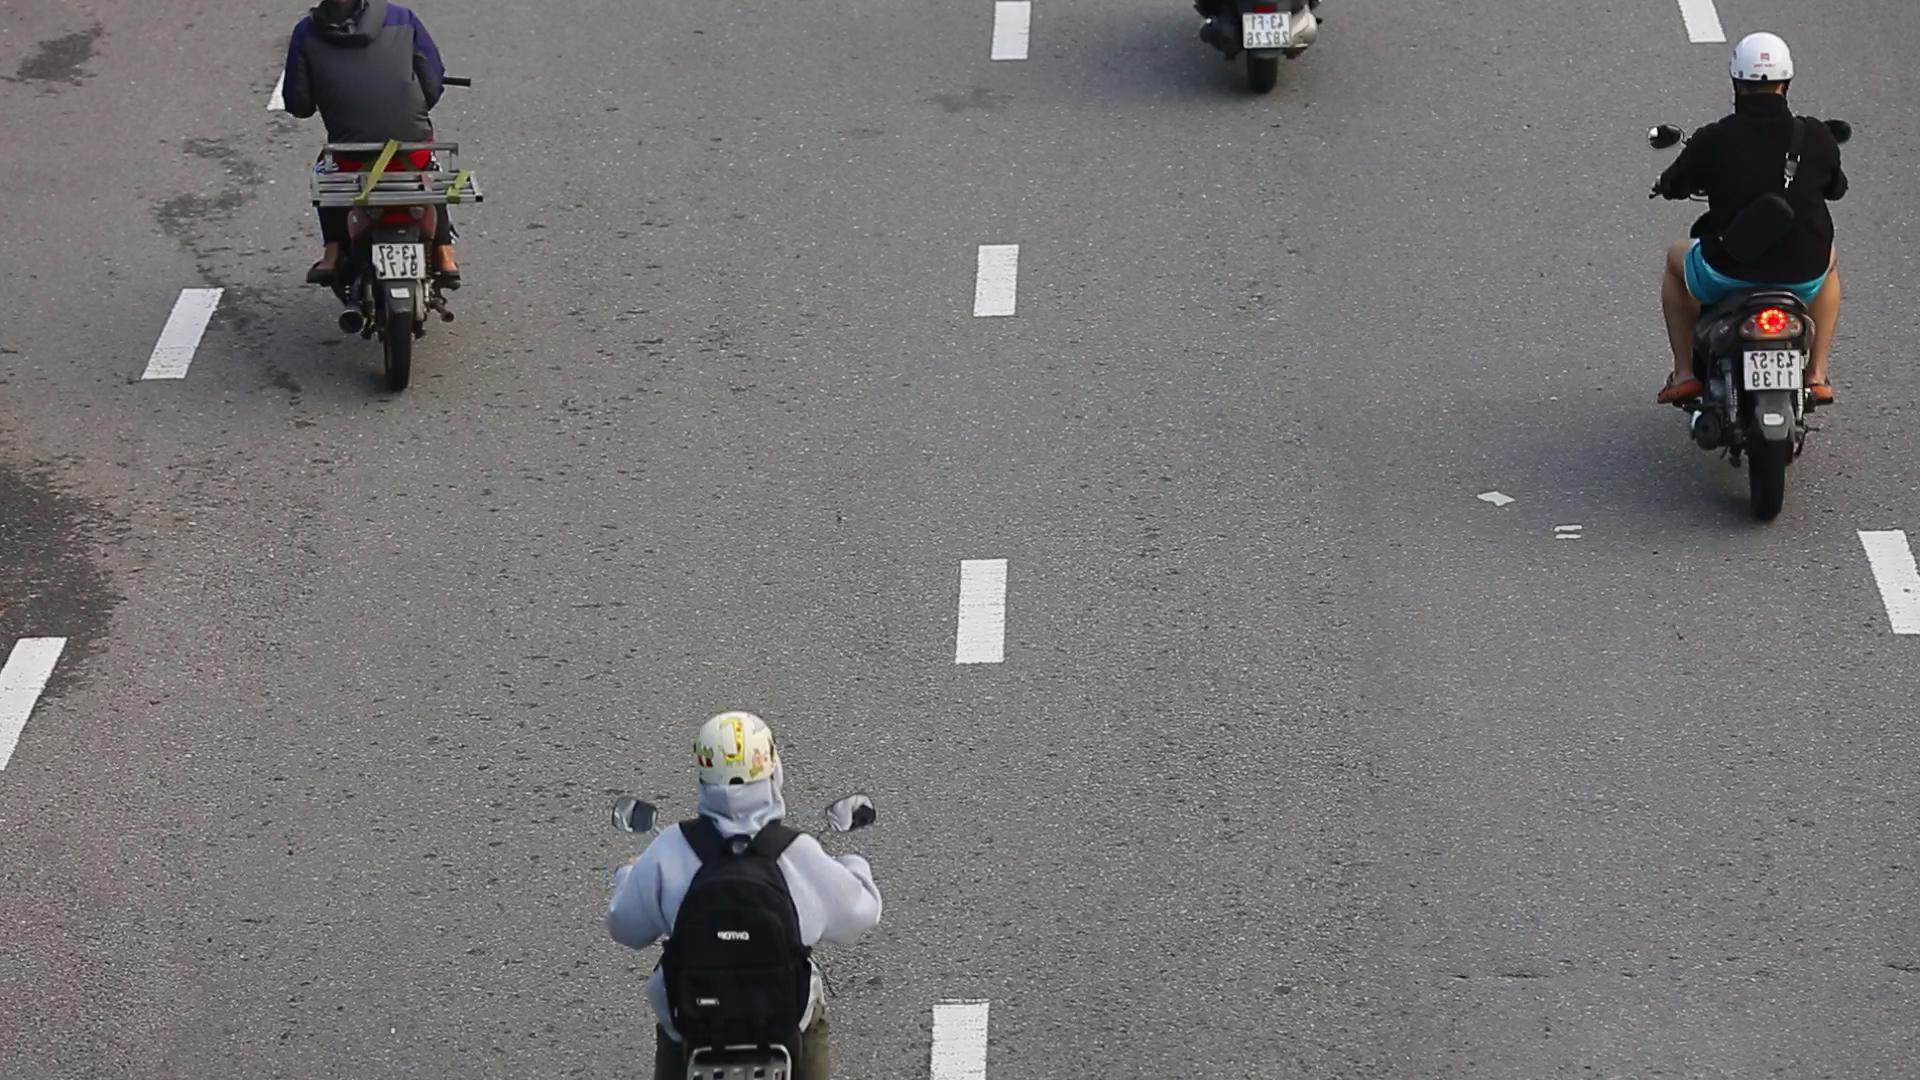motobike: (1635, 32, 1859, 525)
